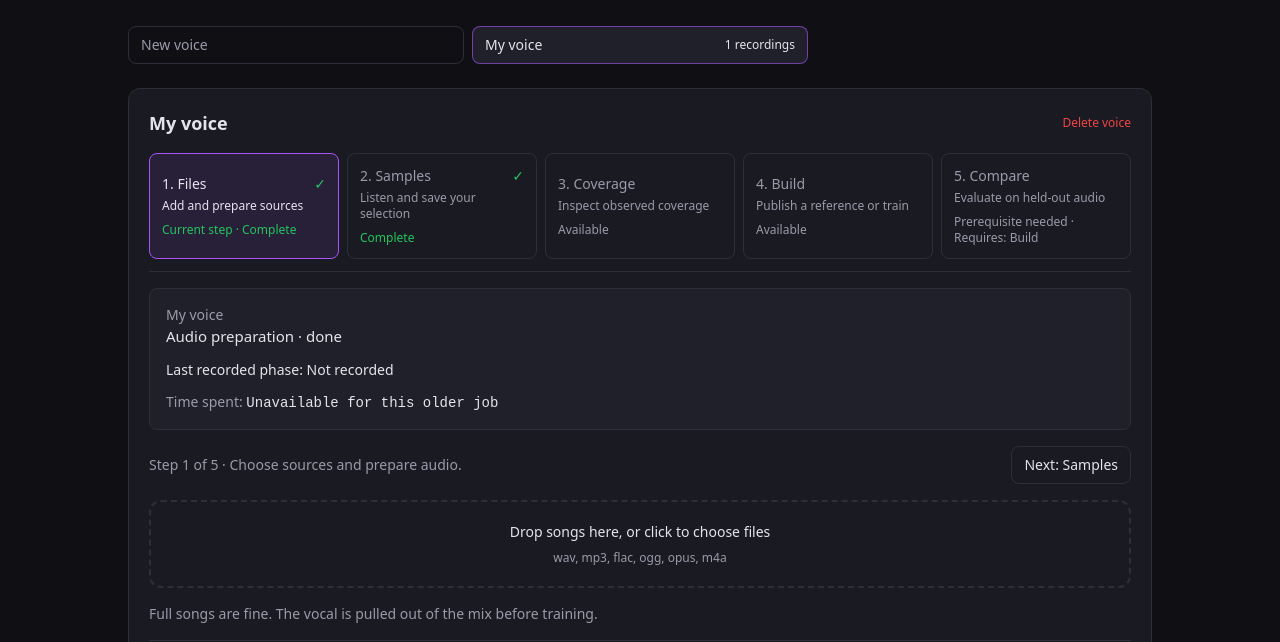
Test: distinguishes reference-only models from different builds in every model control
Click the tab "4. Build Publish a reference or train Available".
click(838, 206)  # box [743,153,933,259]
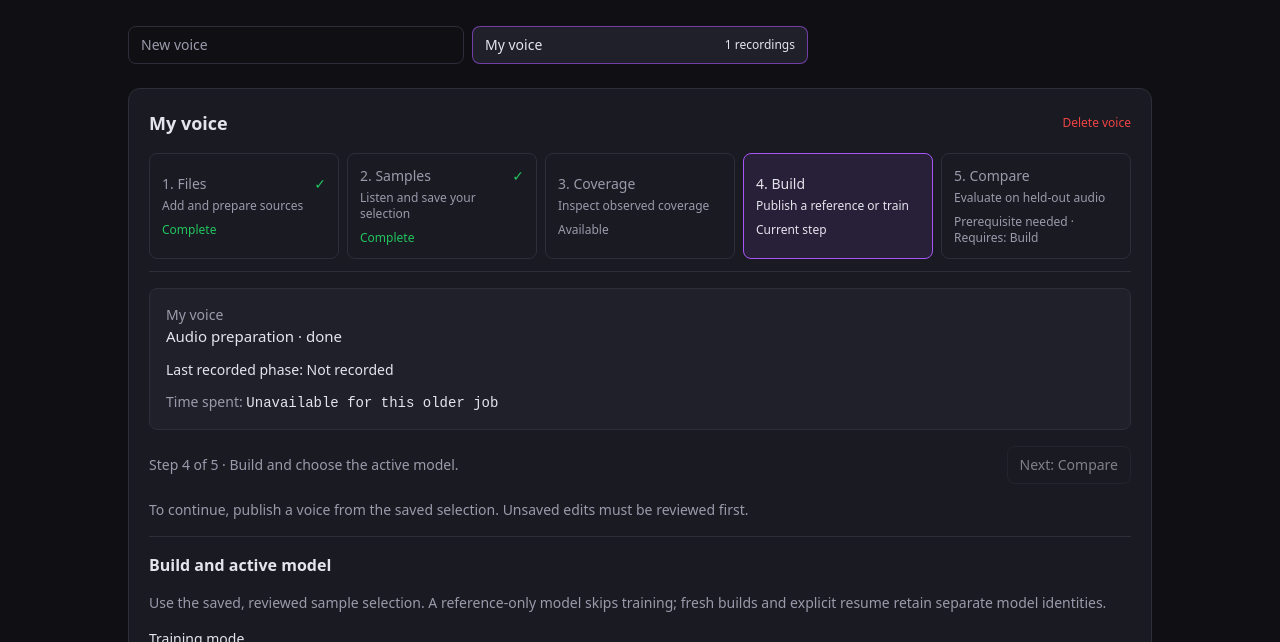
Click the tab with aria-label "Compare".
click(1036, 206)  # box [941,153,1131,259]
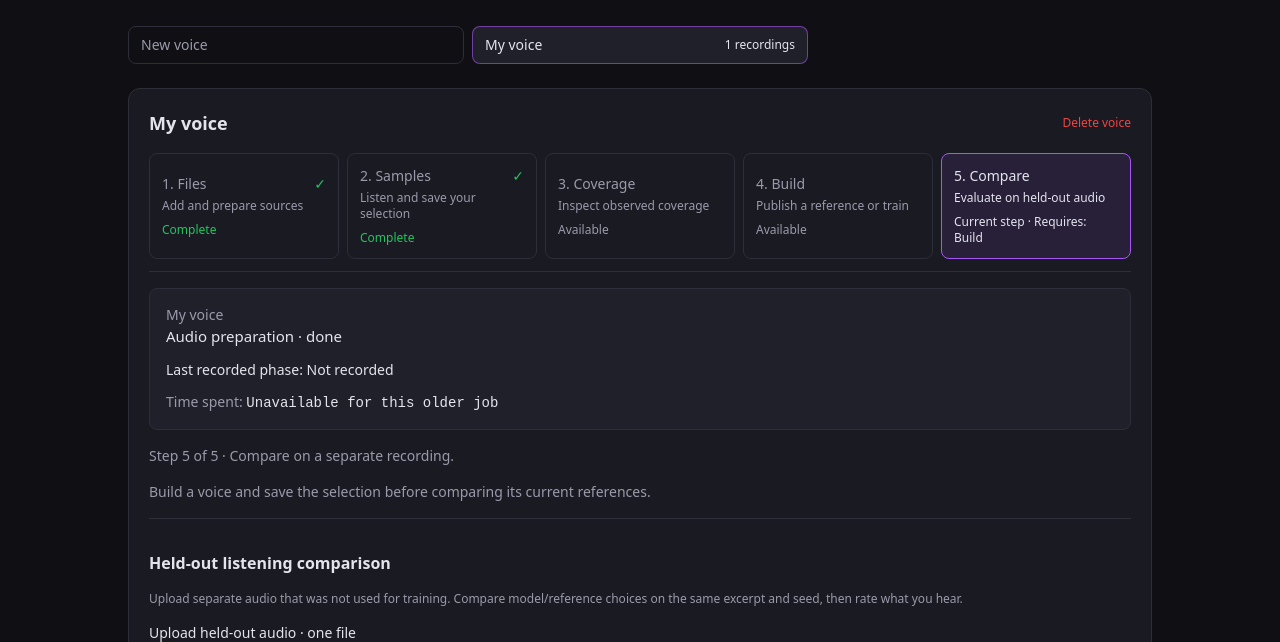
Click the tab with aria-label "Compare".
click(1036, 206)  # box [941,153,1131,259]
(page scrolled)
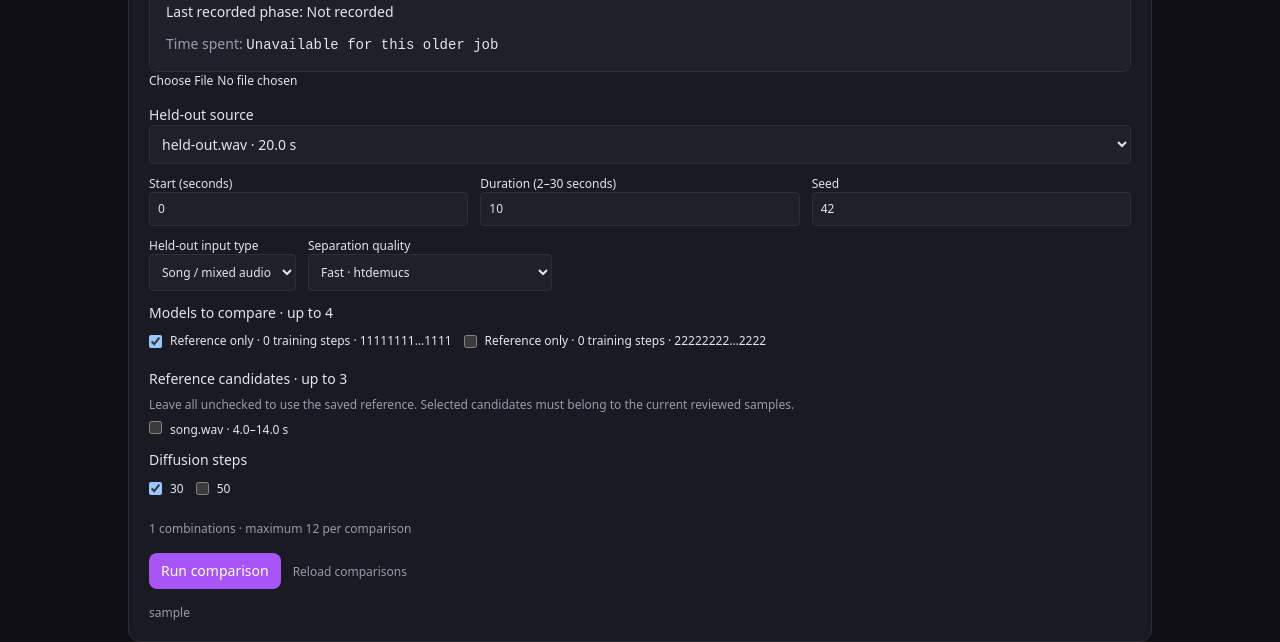
Click the button "Run comparison".
click(215, 570)  # box [149,552,281,588]
(page scrolled)
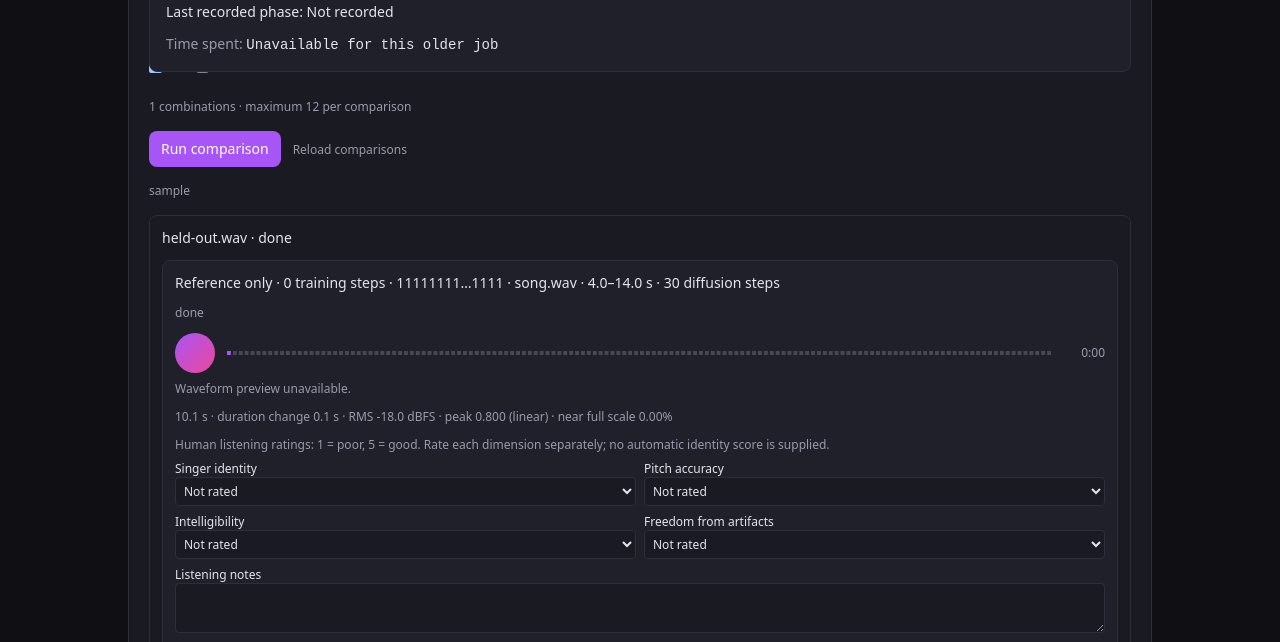
Expected: the heading with id "trial-comparison-1-trial-1" shows "Reference only · 0 training steps · 11111111…1111", [175,272,504,292]
